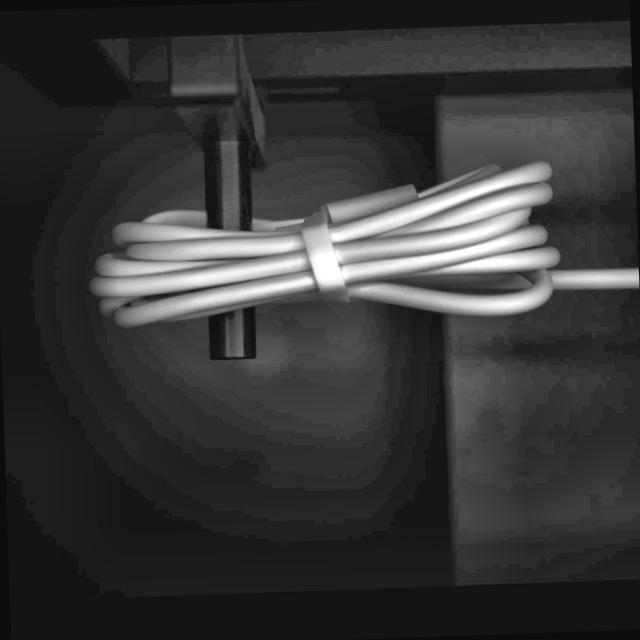Cable: (79, 154, 640, 334)
